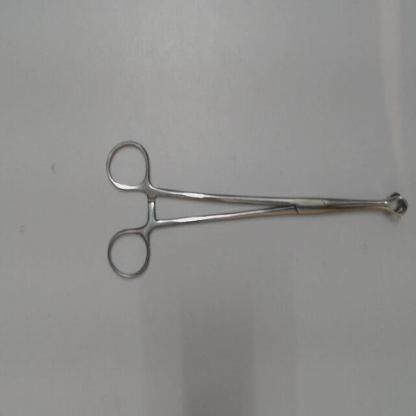8 Babcock Tissue Forceps: (100, 131, 412, 284)
